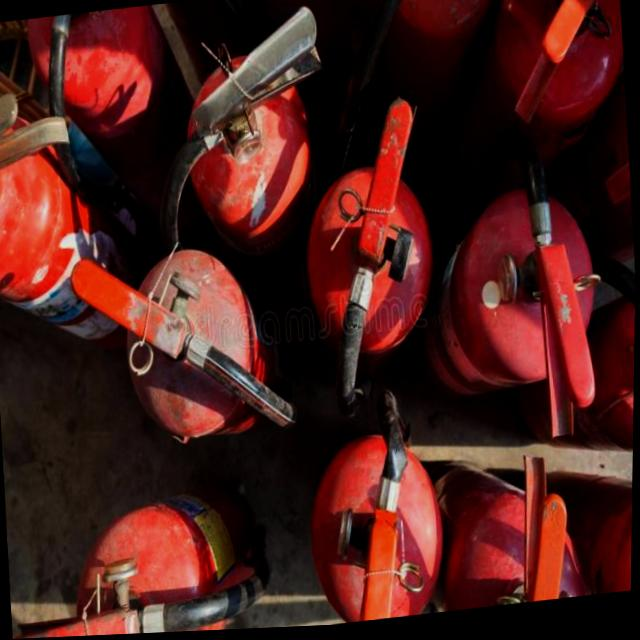FireExtinguisher: (387, 123, 614, 492), (146, 5, 355, 356), (56, 227, 304, 479), (416, 0, 637, 269), (285, 88, 453, 436), (0, 67, 176, 376), (12, 0, 236, 232), (4, 471, 278, 640), (295, 376, 456, 629), (497, 235, 637, 490), (355, 0, 509, 214), (411, 439, 591, 617), (510, 442, 635, 607)
